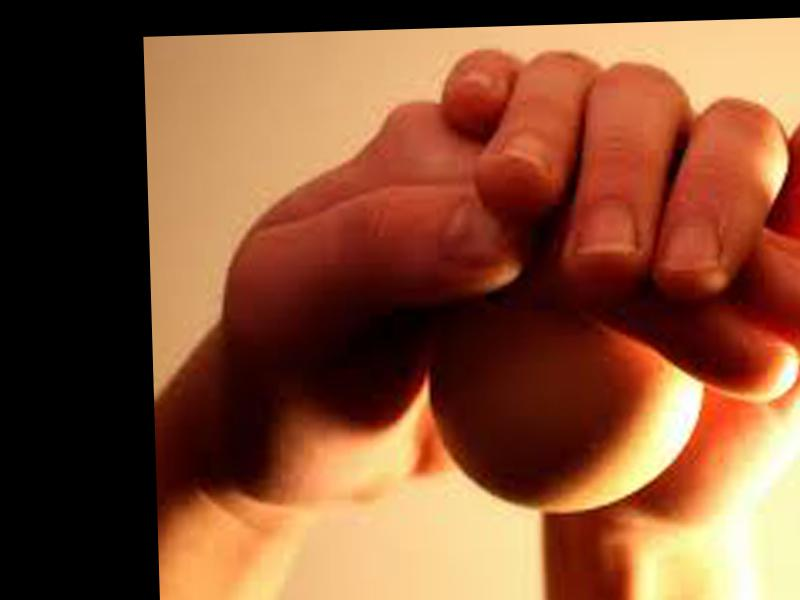Eggs: (424, 298, 706, 516)
